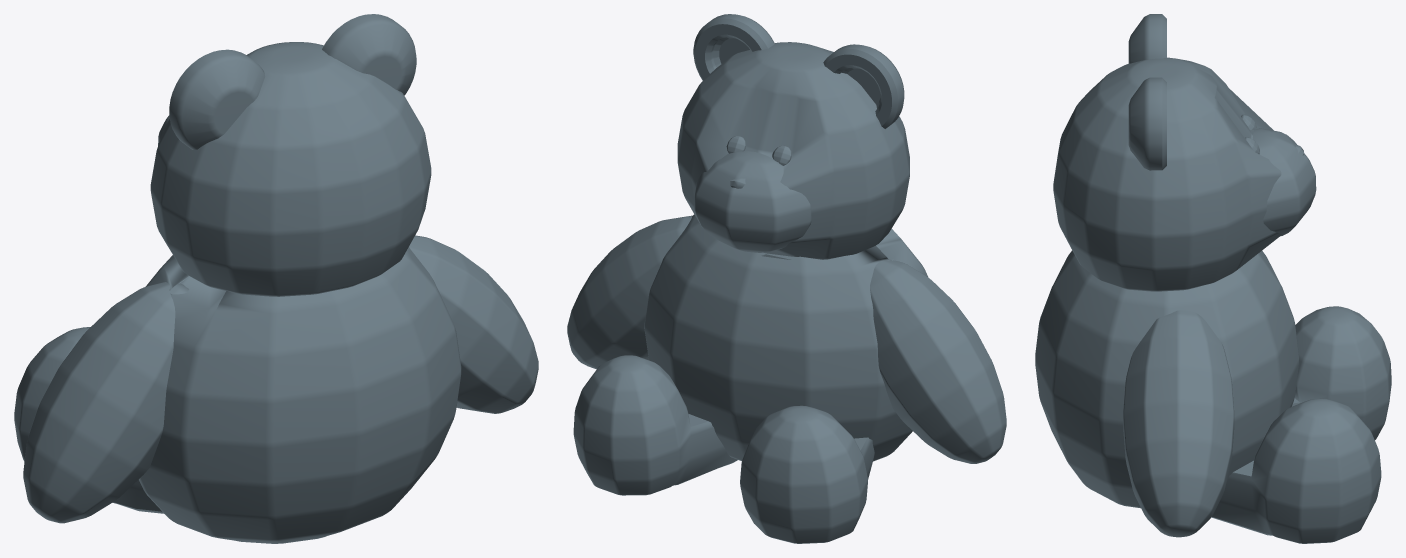
File: Teddybear.fbx
The picture shows the model from 3 angles, left to right: view 1: azimuth 30°, elevation 25°; view 2: azimuth 150°, elevation 25°; view 3: azimuth 270°, elevation 25°; orthographic projection. The views are drawn at different scales.
Visible parts, largest first — view 1: pSphere5, pSphere2, pasted__pSphere5, pasted__pasted__pSphere5, pCylinder3, pasted__pCylinder3, pSphere6; view 2: pSphere5, pSphere2, pasted__pSphere5, pasted__pSphere6, pSphere6, pasted__pasted__pSphere5, pSphere3, pCylinder3, pasted__pCylinder3; view 3: pSphere2, pSphere5, pasted__pasted__pSphere5, pasted__pSphere6, pSphere6, pSphere3, pasted__pCylinder3, pCylinder3.
Boxes of the visible parts, box(x1,y1,x2,y2) form: pSphere5: box(139, 247, 461, 543); pSphere2: box(150, 42, 431, 296); pasted__pSphere5: box(23, 282, 188, 523); pasted__pasted__pSphere5: box(409, 235, 538, 413); pCylinder3: box(169, 49, 265, 149); pasted__pCylinder3: box(322, 14, 416, 95); pSphere6: box(14, 327, 164, 513); pSphere5: box(644, 214, 927, 461); pSphere2: box(677, 42, 909, 259); pasted__pSphere5: box(870, 259, 1006, 463); pasted__pSphere6: box(573, 355, 737, 495); pSphere6: box(740, 405, 874, 543); pasted__pasted__pSphere5: box(567, 215, 692, 369); pSphere3: box(694, 151, 811, 252); pCylinder3: box(823, 44, 904, 128); pasted__pCylinder3: box(693, 14, 774, 80); pSphere2: box(1053, 57, 1303, 291); pSphere5: box(1035, 250, 1298, 508); pasted__pasted__pSphere5: box(1123, 310, 1234, 537); pasted__pSphere6: box(1211, 398, 1381, 543); pSphere6: box(1292, 306, 1391, 439); pSphere3: box(1252, 128, 1316, 236); pasted__pCylinder3: box(1128, 77, 1166, 170); pCylinder3: box(1128, 14, 1166, 63).
Bounding box in the file's own units: 0.6156 × 0.5736 × 0.4239.
